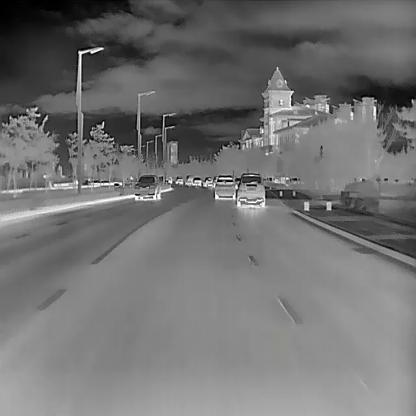car: (236, 172, 264, 206), (133, 174, 160, 200), (213, 173, 235, 198), (202, 176, 212, 186), (174, 174, 183, 184), (192, 175, 201, 185), (185, 174, 193, 184)
